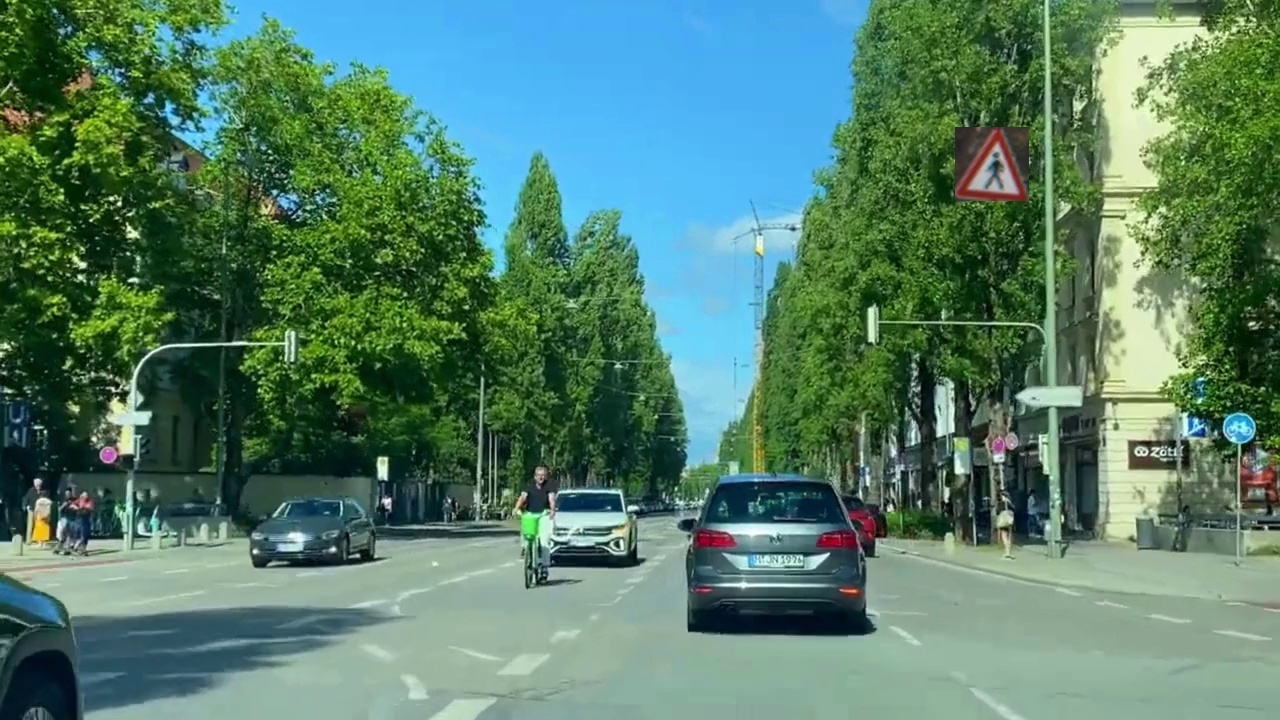Pedestrians: (955, 127, 1029, 201)
